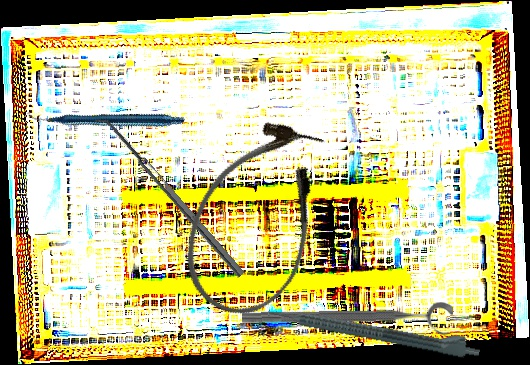Cannula: (164, 105, 350, 332)
Fixation Ring: (241, 302, 454, 341)
Handpiece: (26, 40, 186, 193), (266, 295, 483, 362)
Spatula Surgical: (92, 111, 245, 284)
